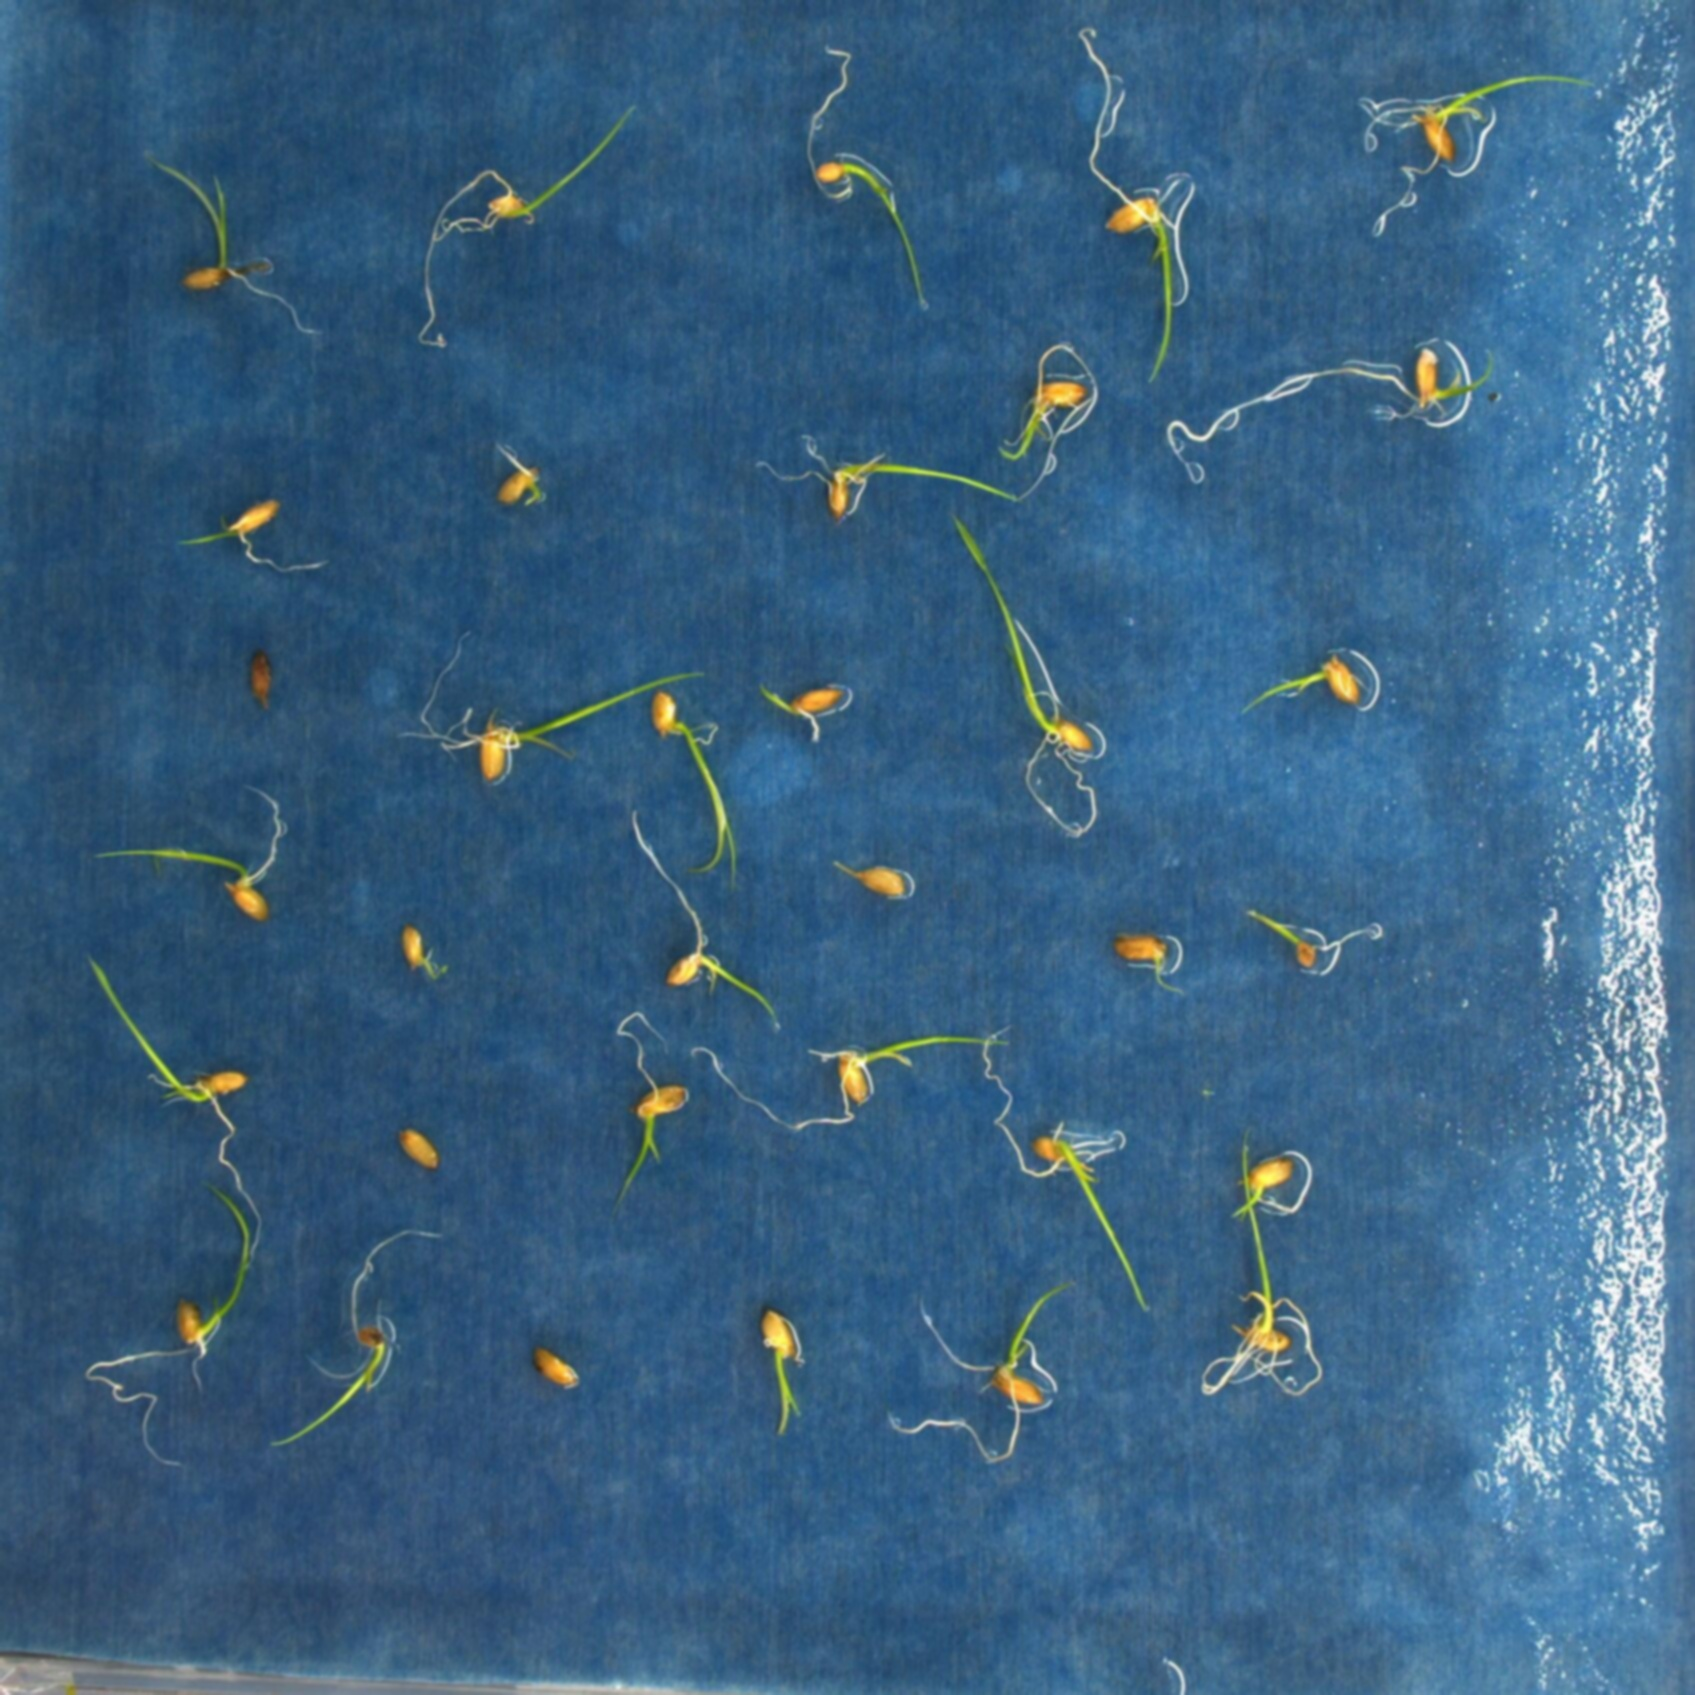not sprout: (832, 854, 910, 905), (394, 916, 442, 992), (245, 653, 282, 719), (529, 1350, 581, 1394), (400, 1128, 439, 1170)
sprout: (408, 99, 638, 352), (972, 1024, 1163, 1318), (942, 509, 1104, 841), (87, 958, 265, 1257), (87, 1177, 251, 1471), (1163, 349, 1492, 481), (402, 653, 716, 787), (265, 1222, 442, 1451), (1071, 26, 1183, 390), (1358, 68, 1594, 236), (880, 1274, 1082, 1467), (622, 812, 792, 1032), (1192, 1130, 1327, 1403), (689, 1029, 1009, 1141), (802, 40, 931, 317), (147, 152, 324, 343), (96, 790, 278, 927), (768, 436, 1023, 515), (646, 685, 745, 883), (616, 1012, 688, 1201), (174, 497, 321, 581), (1012, 360, 1085, 508), (1239, 657, 1367, 720), (1243, 900, 1340, 981), (756, 1312, 807, 1437), (1116, 930, 1191, 1000), (757, 681, 843, 737), (1225, 1150, 1291, 1222), (492, 449, 557, 512)
